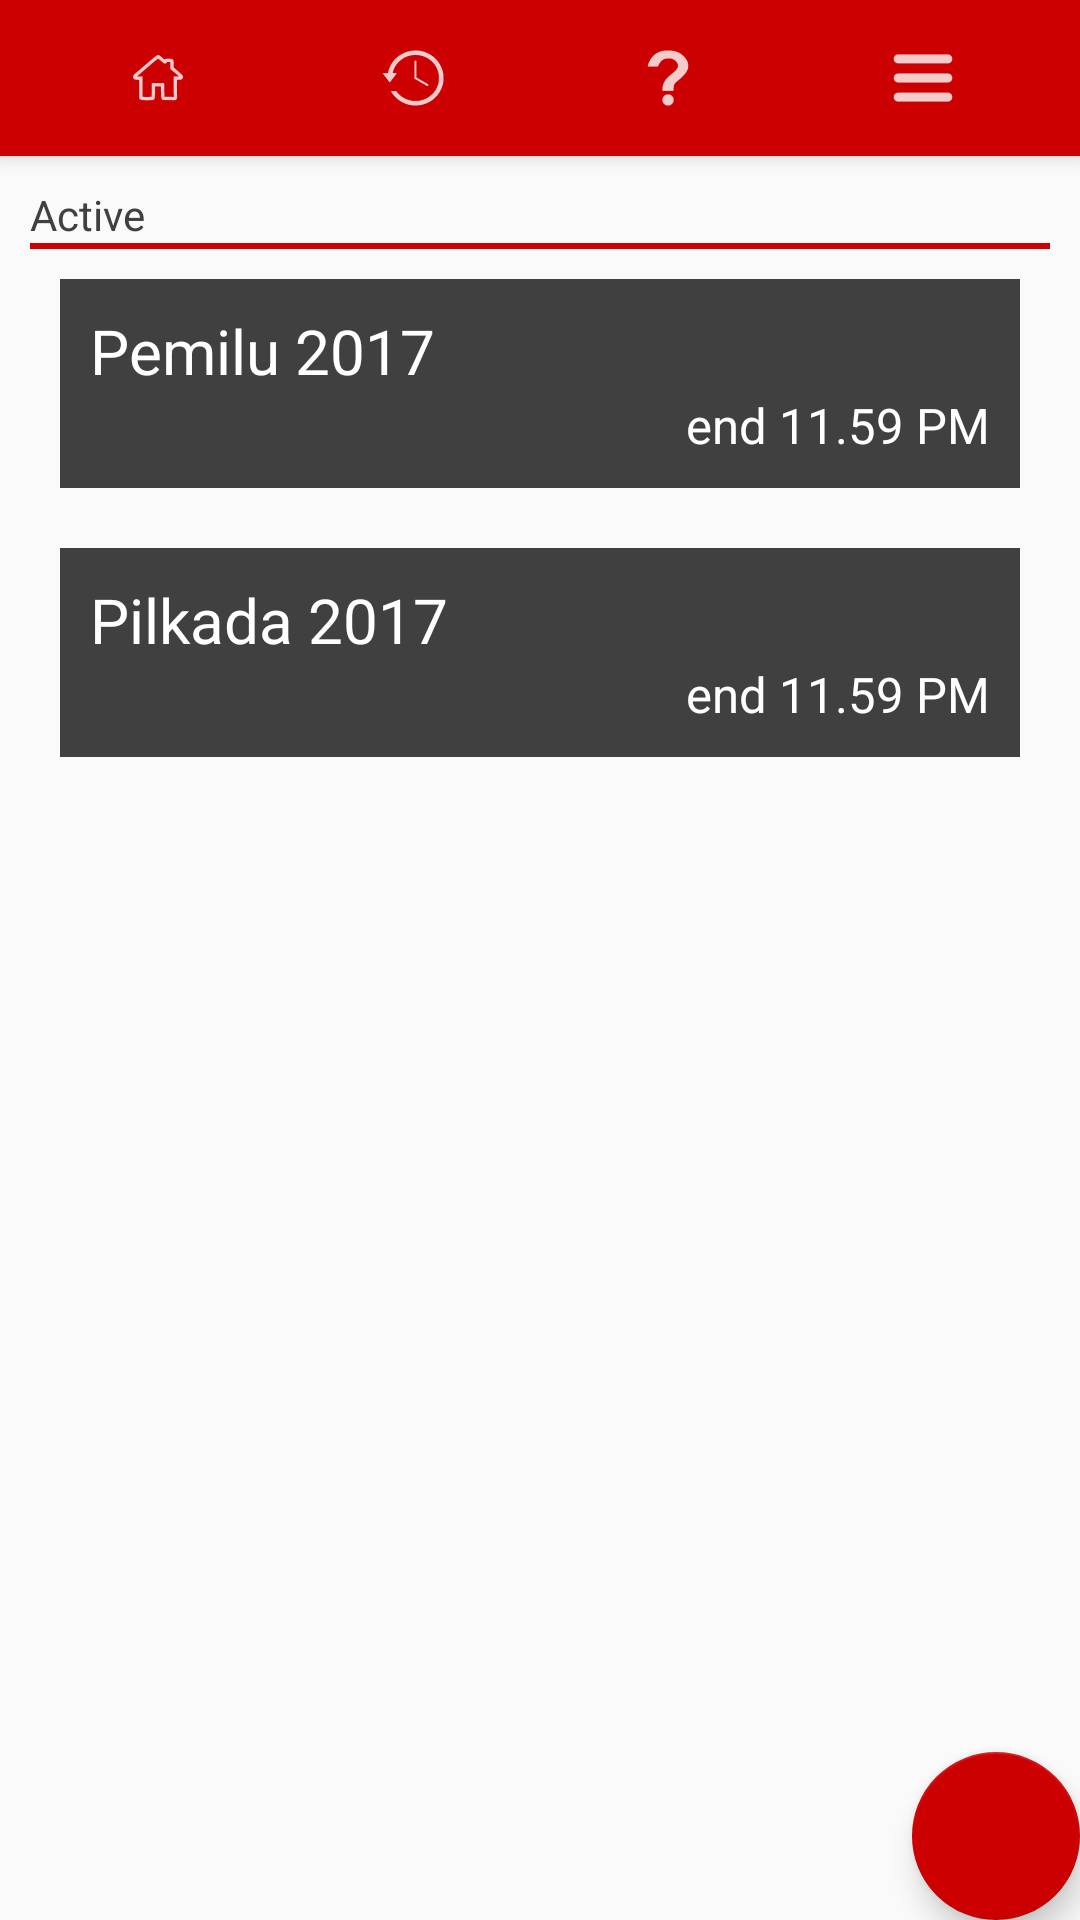

Named icons in this screenshot (1080×1920) and their bounding boxes, box=[x1, y1, x2, y2]:
burger menu: box=[893, 54, 953, 102]
history: box=[383, 50, 444, 106]
home: box=[133, 55, 183, 101]
tanda tanya: box=[647, 50, 689, 106]
